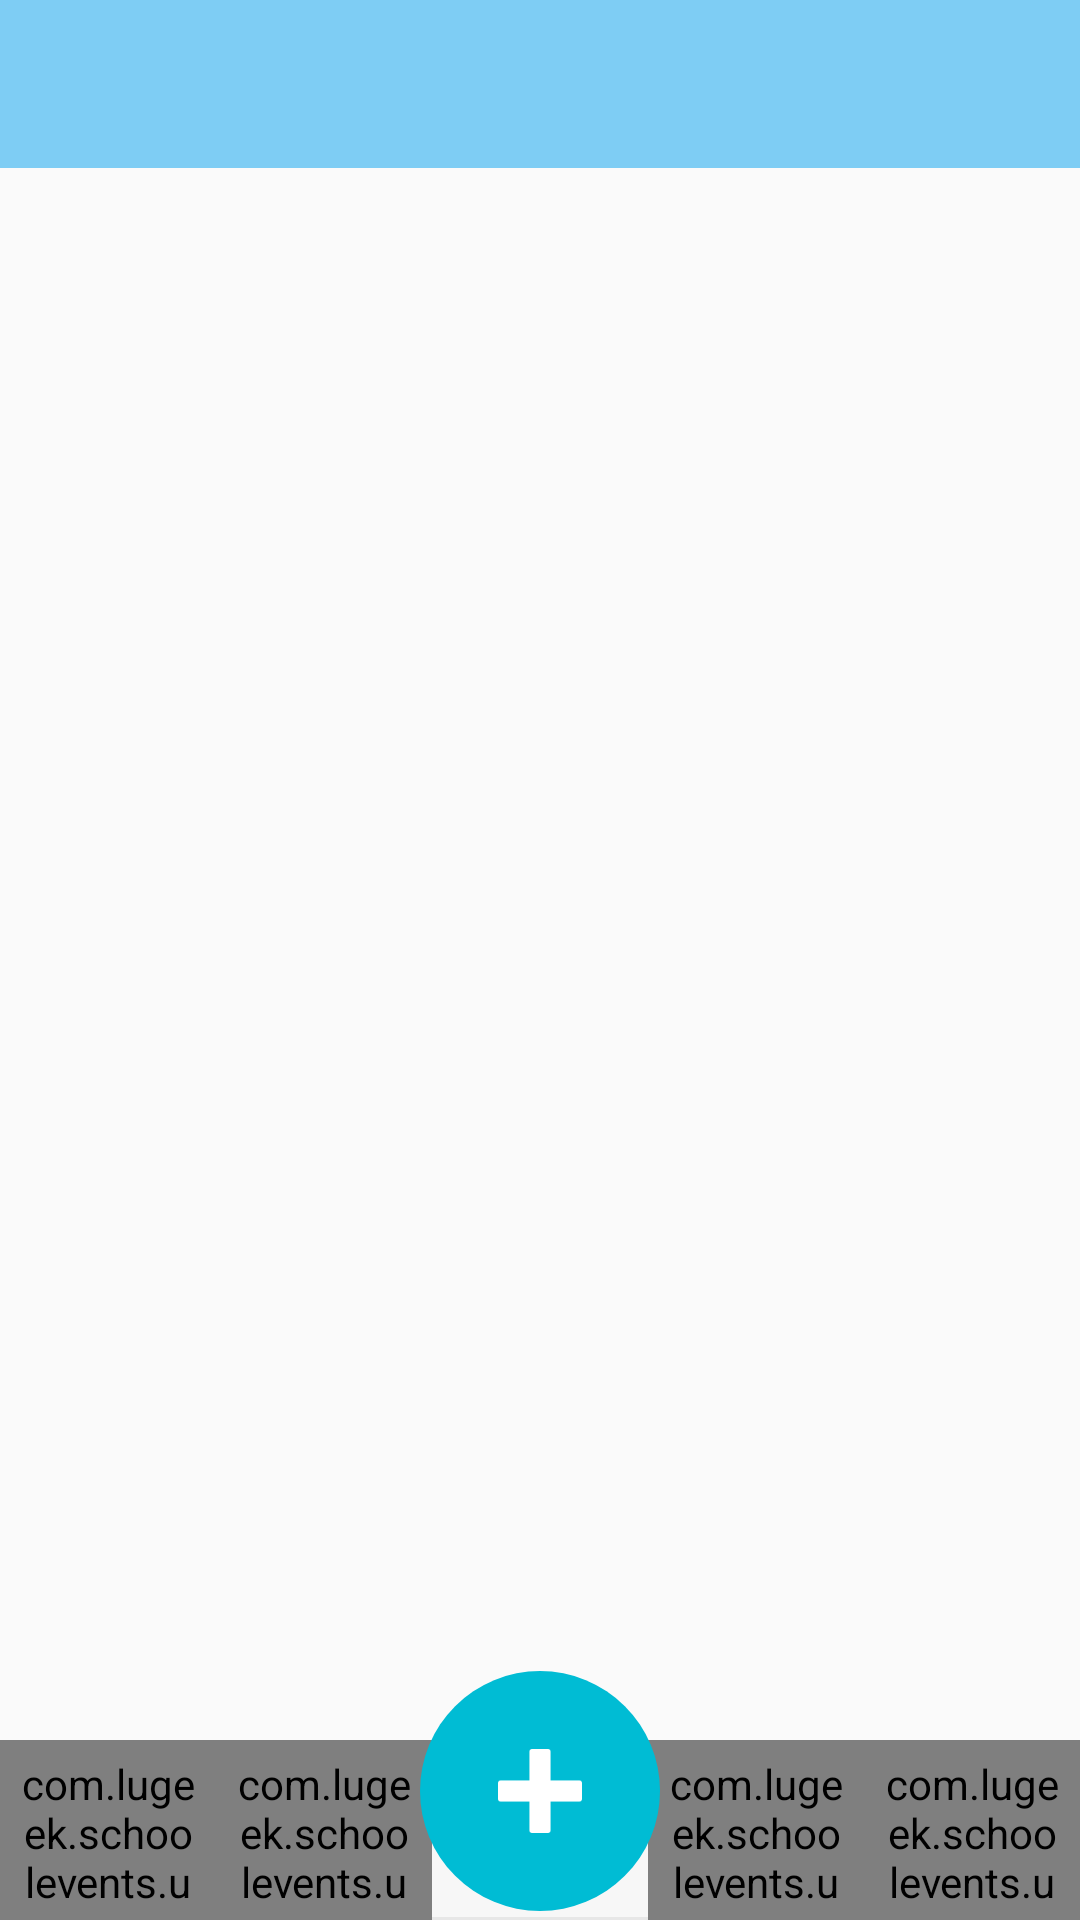

Where icons sit on this 1080 × 1920 app screen, as region(x1, y1, x2, y2):
plus: region(420, 1671, 660, 1911)
